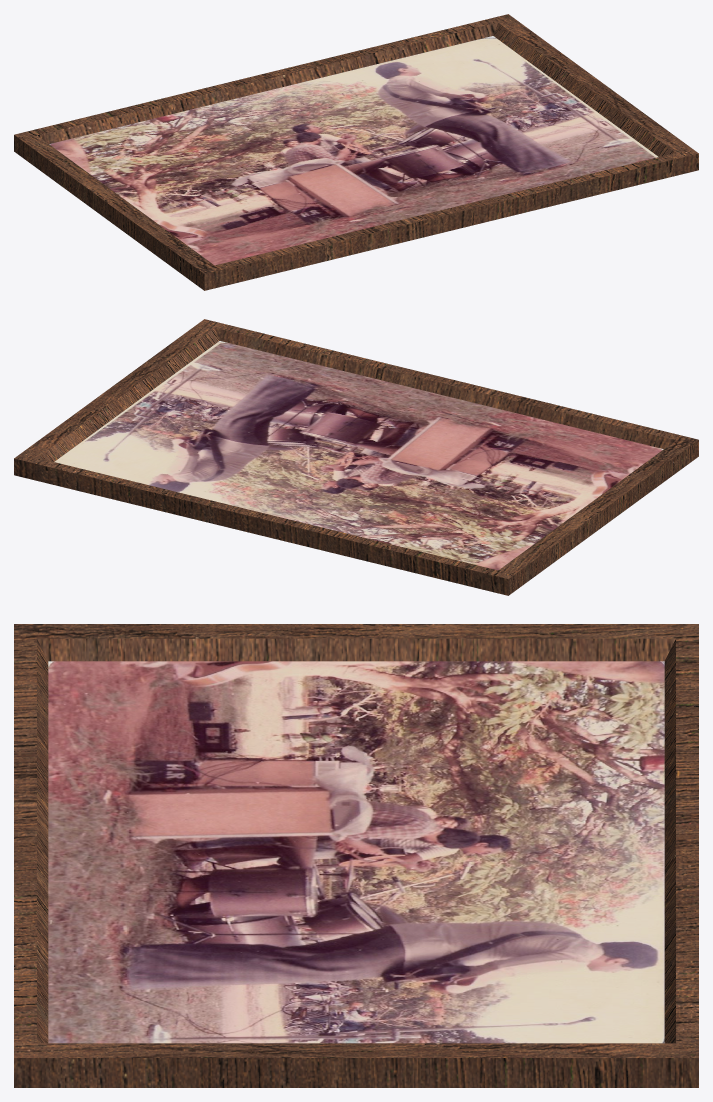
3 renders of one model, top to bottom at view 1: azimuth 30°, elevation 25°; view 2: azimuth 150°, elevation 25°; view 3: azimuth 270°, elevation 25°, orthographic. The views are drawn at different scales.
Visible parts, largest first — view 1: Plane, frame1(1); view 2: Plane, frame1(1); view 3: Plane, frame1(1).
Part boxes in pixels (x1,y1,x2,y2): Plane: [49, 36, 658, 265]; frame1(1): [14, 14, 698, 290]; Plane: [54, 341, 663, 570]; frame1(1): [14, 319, 698, 595]; Plane: [48, 661, 664, 1043]; frame1(1): [14, 624, 698, 1087].
Size of the model in its own units: 13.17 by 0.4268 by 8.79.
2 materials, 2 textured.
